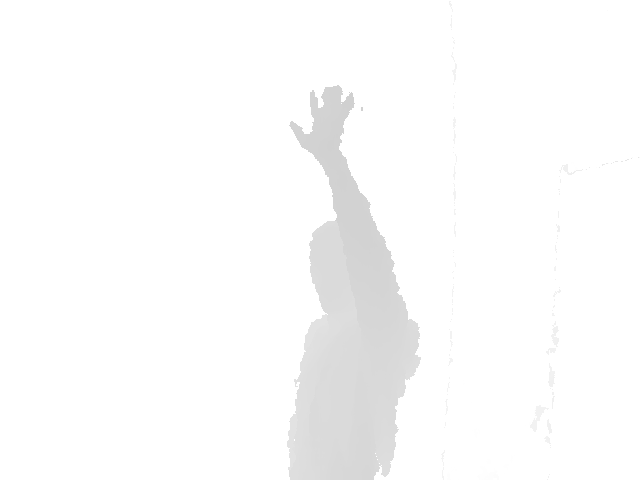hand: (289, 84, 356, 153)
head: (308, 219, 362, 315)
person: (285, 84, 423, 479)
